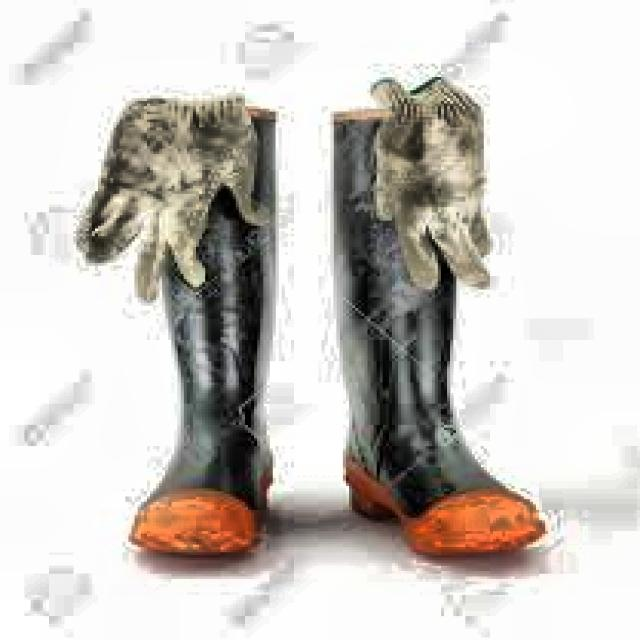shoes: (66, 60, 594, 576)
